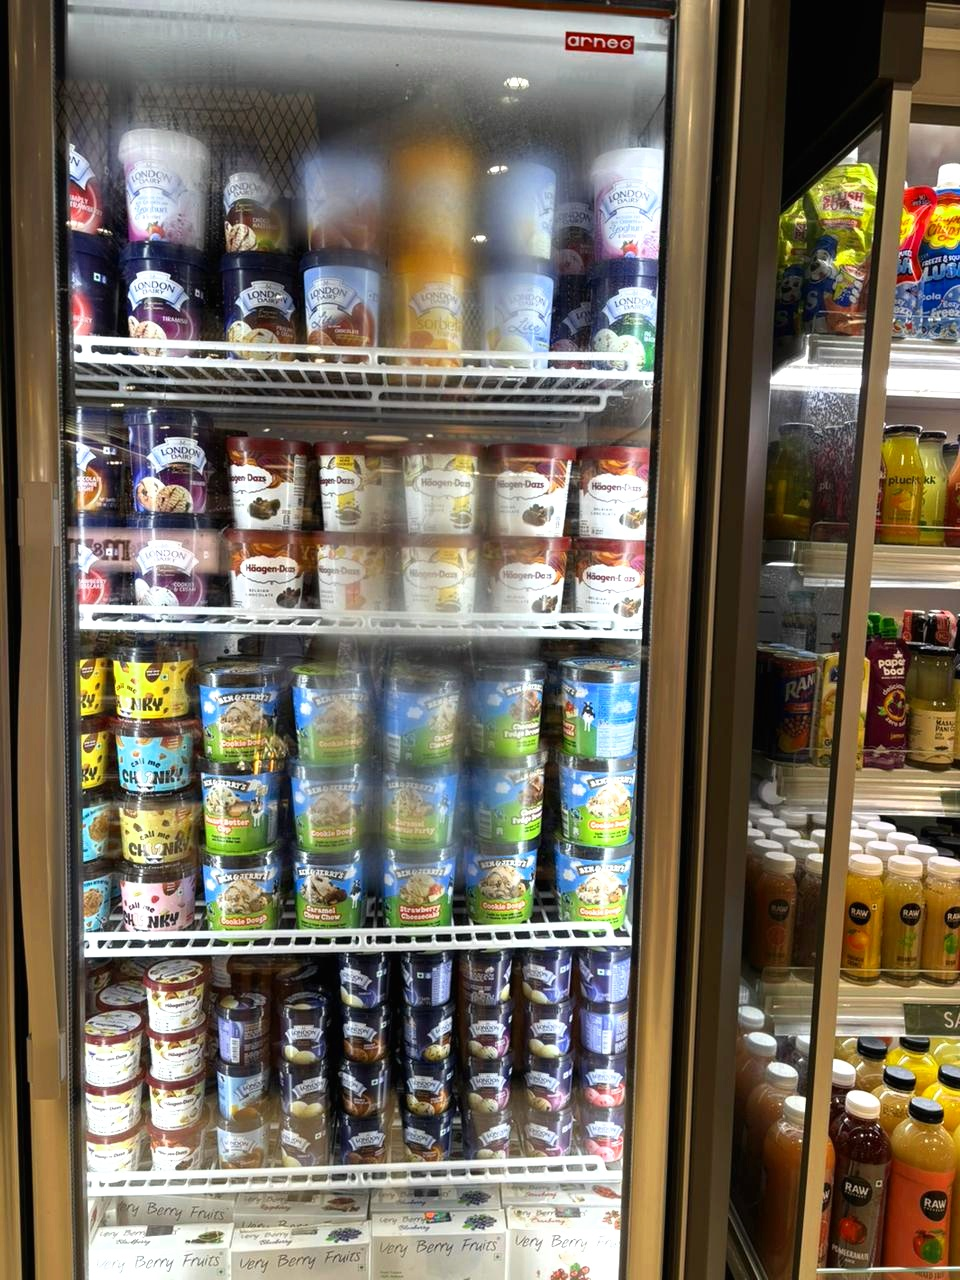Haagen-Dazs IceCream Tub: (388, 434, 486, 544), (479, 436, 577, 542), (222, 428, 318, 535), (308, 436, 402, 537), (303, 531, 403, 624), (381, 534, 481, 625), (570, 438, 653, 544), (470, 541, 567, 628), (566, 542, 647, 631), (227, 532, 310, 619)
